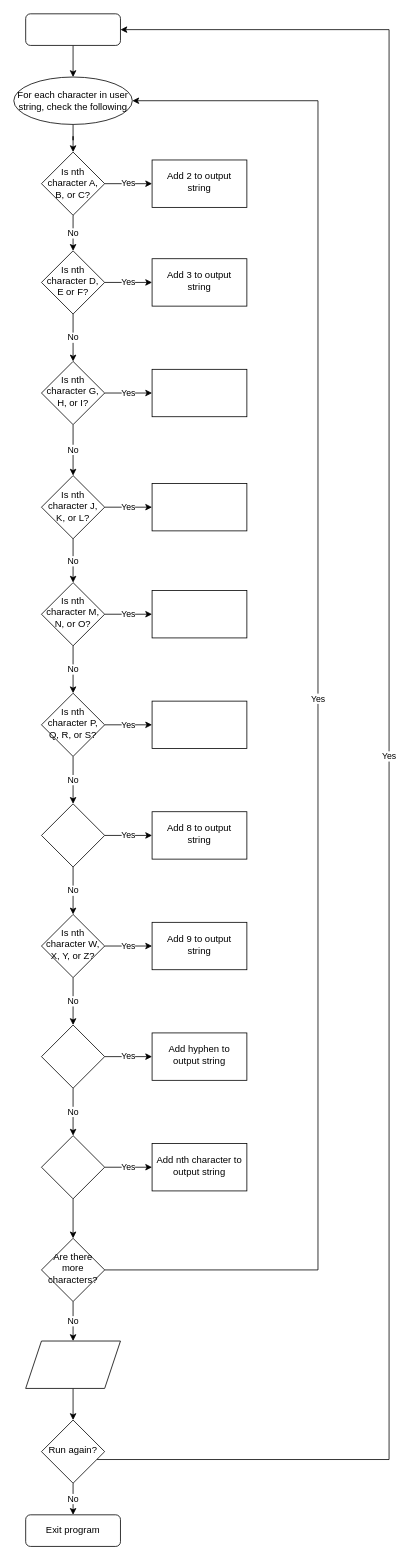
This 410x1560 diagram has some shape labels left out. Each missing label, with the box of its shape:
Add 4 to output string: (151, 369, 247, 417)
Add 5 to output string: (151, 483, 247, 531)
Add 6 to output string: (151, 590, 247, 638)
Add 7 to output string: (151, 700, 247, 749)
Get phone number from user: (25, 13, 120, 45)
Is nth character a hyphen?: (41, 1024, 105, 1088)
Is nth character not a space?: (41, 1135, 105, 1199)
Is nth character T, U, or V?: (41, 803, 105, 867)
Output complete converted phone number: (25, 1340, 120, 1388)
